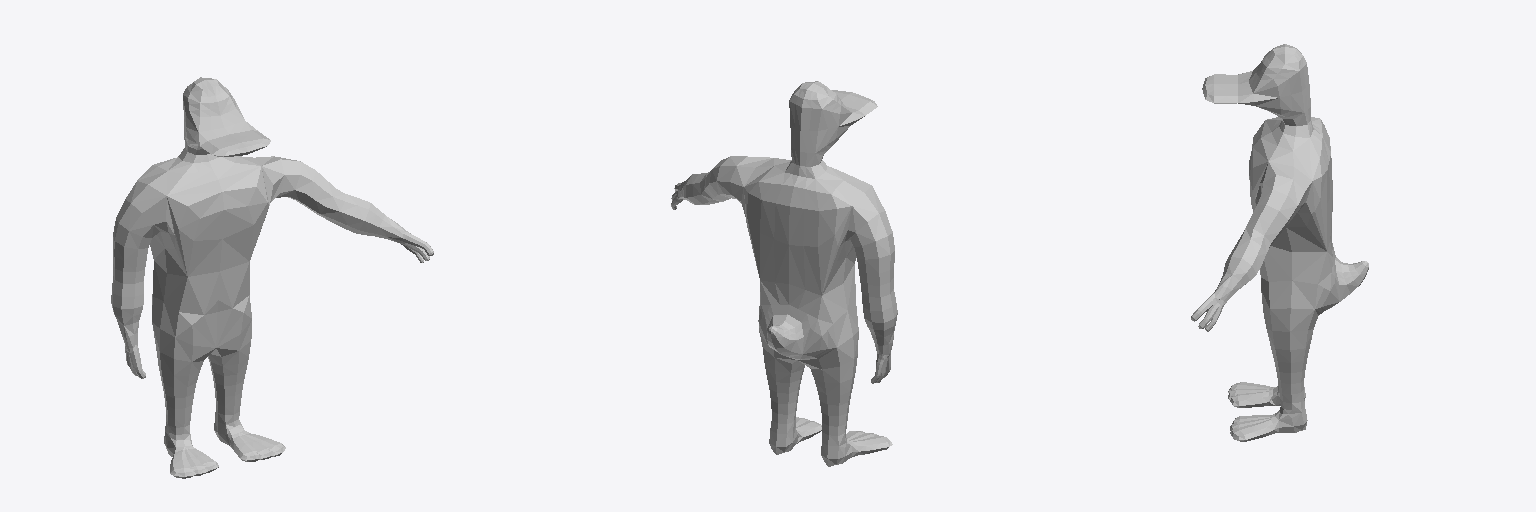
Rendered from canard_qui_salue_000021.obj.
The picture shows the model from 3 angles: view 1: azimuth 30°, elevation 25°; view 2: azimuth 150°, elevation 25°; view 3: azimuth 270°, elevation 25°; orthographic projection.
Visible parts, largest first — view 1: Cube; view 2: Cube; view 3: Cube.
Boxes of the visible parts, box(x1,y1,x2,y2) form: Cube: box(111, 77, 433, 478); Cube: box(671, 81, 897, 466); Cube: box(1191, 44, 1368, 441).
Bounding box in the file's own units: 2.12 × 2.8 × 1.22.